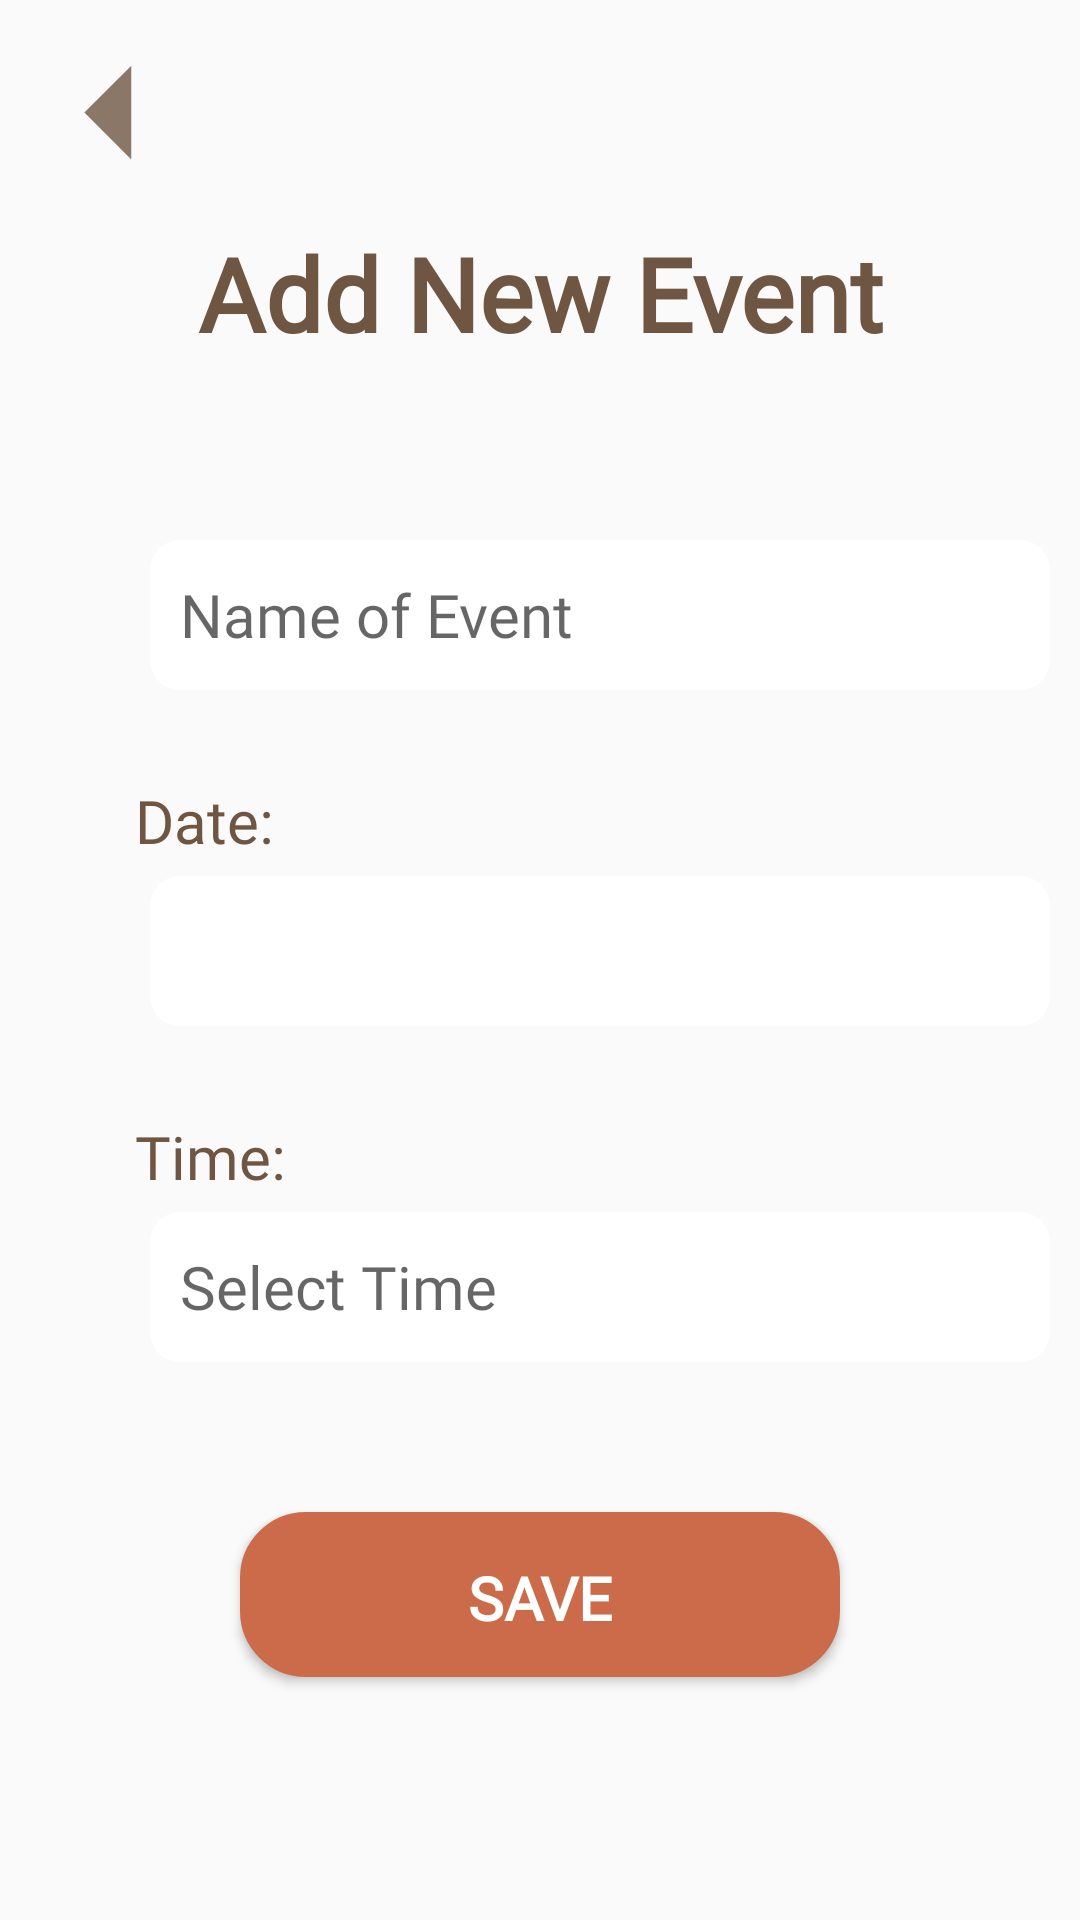

Named icons in this screenshot (1080px×1920px) and their bounding boxes, Rect(x1, y1, x2, y2):
back: Rect(84, 66, 132, 159)
